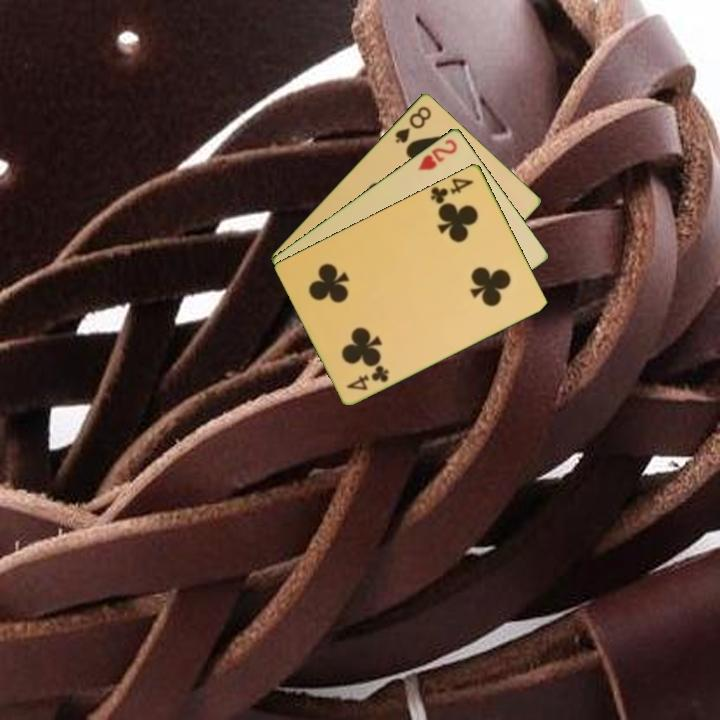2h: (414, 135, 460, 173)
4c: (427, 174, 477, 207), (343, 361, 392, 393)
8s: (391, 102, 434, 145)
